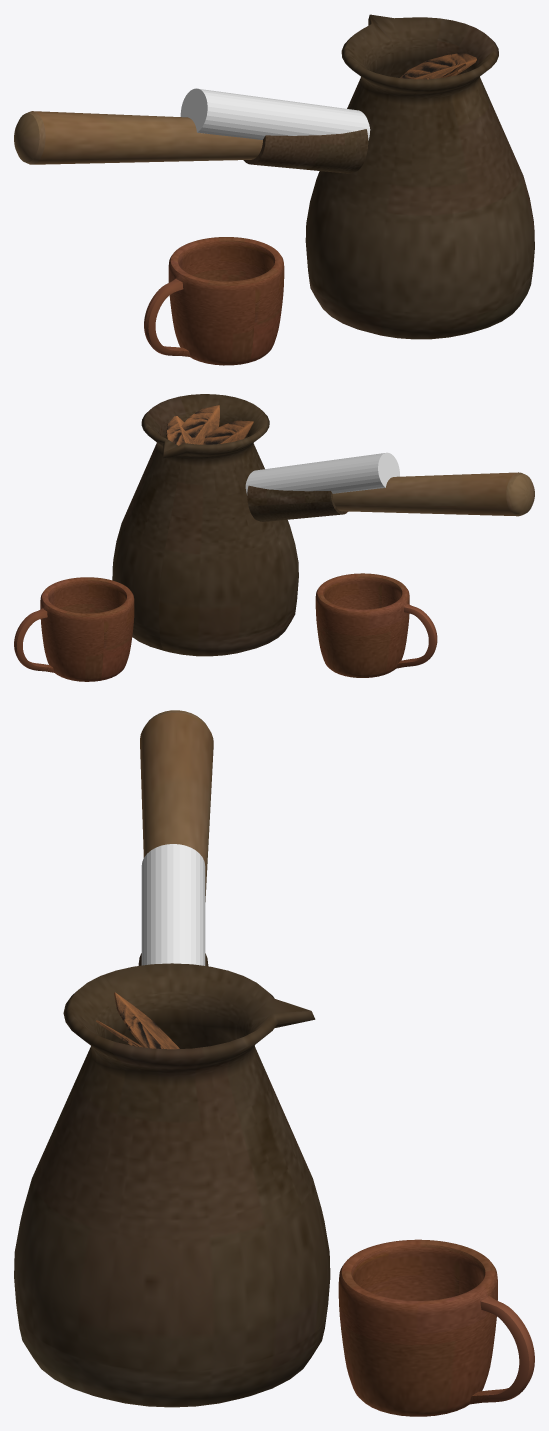
File: Kopi Daun .fbx
The picture shows the model from 3 angles, top to bottom: view 1: azimuth 30°, elevation 25°; view 2: azimuth 150°, elevation 25°; view 3: azimuth 270°, elevation 25°; orthographic projection. The views are drawn at different scales.
Visible parts, largest first — view 1: Cylinder.006, Cylinder.001, Cylinder.004, Cylinder, Cylinder.003, Plane.004; view 2: Cylinder.006, Cylinder.001, Cylinder.005, Cylinder.004, Cylinder, Cylinder.003, Plane.002, Plane.003, Plane.004; view 3: Cylinder.006, Cylinder.005, Cylinder.004, Cylinder, Plane.003.
Boxes of the visible parts, box(x1,y1,x2,y2) form: Cylinder.006: box(305, 14, 534, 339); Cylinder.001: box(144, 237, 284, 365); Cylinder.004: box(14, 111, 262, 164); Cylinder: box(180, 88, 370, 140); Cylinder.003: box(243, 129, 368, 173); Plane.004: box(400, 53, 476, 79); Cylinder.006: box(112, 394, 298, 656); Cylinder.001: box(315, 573, 437, 677); Cylinder.005: box(14, 577, 134, 681); Cylinder.004: box(332, 472, 534, 516); Cylinder: box(245, 452, 399, 495); Cylinder.003: box(247, 485, 348, 521); Plane.002: box(181, 405, 219, 444); Plane.003: box(203, 420, 253, 444); Plane.004: box(166, 416, 197, 445); Cylinder.006: box(14, 963, 330, 1407); Cylinder.005: box(338, 1239, 534, 1416); Cylinder.004: box(140, 710, 213, 901); Cylinder: box(141, 844, 205, 965); Plane.003: box(114, 992, 179, 1049).
Bounding box in the file's own units: 2.76 × 1.79 × 1.49.
5 materials, 5 textured.
